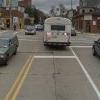Bus: (40, 15, 73, 49)
